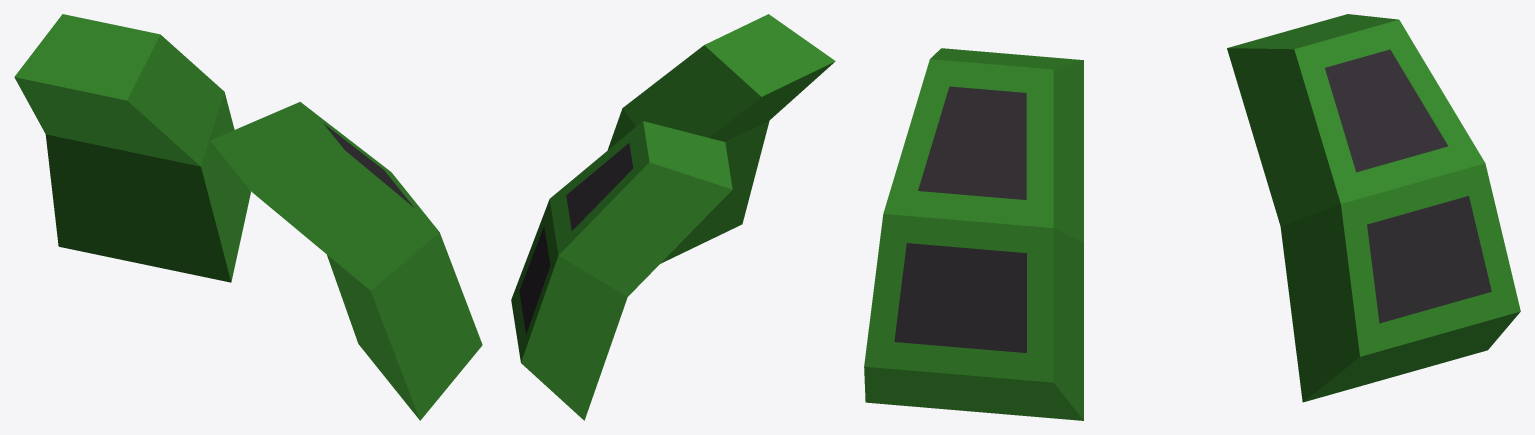
Rendered from Reload_Upgrade.glb.
3 views of the same model, side by side, from view 1: azimuth 30°, elevation 25°; view 2: azimuth 150°, elevation 25°; view 3: azimuth 270°, elevation 25° (orthographic). The views are drawn at different scales.
Visible parts, largest first — view 1: Reload Upgrade; view 2: Reload Upgrade; view 3: Reload Upgrade.
Part boxes in pixels (bbox=[...]): Reload Upgrade: bbox=[14, 14, 482, 420]; Reload Upgrade: bbox=[511, 14, 835, 420]; Reload Upgrade: bbox=[864, 14, 1520, 420].
Bounding box in the file's own units: 0.0703 × 0.0628 × 0.1201.
